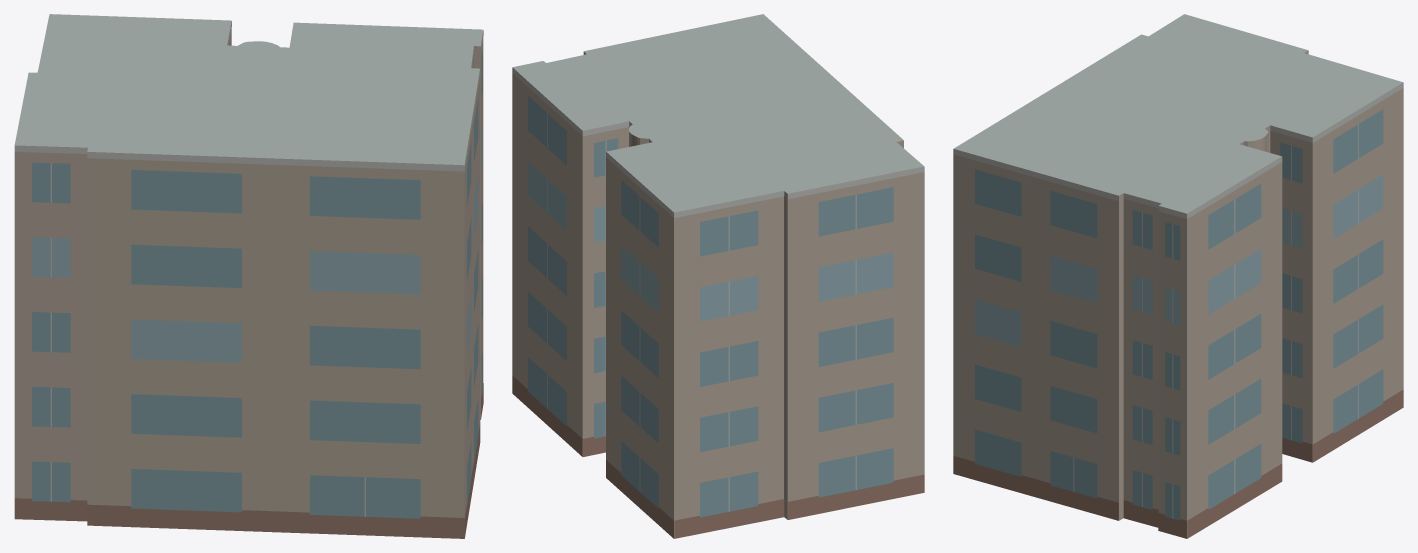
The model's file is survey-upis-32654998.glb.
The picture shows the model from 3 angles, left to right: view 1: azimuth 30°, elevation 25°; view 2: azimuth 150°, elevation 25°; view 3: azimuth 270°, elevation 25°; orthographic projection. The views are drawn at different scales.
Visible parts, largest first — view 1: survey-upis-32654998.tmp; view 2: survey-upis-32654998.tmp; view 3: survey-upis-32654998.tmp.
Boxes of the visible parts, left/top/right/bottom form: survey-upis-32654998.tmp: left=14, top=14, right=483, bottom=538; survey-upis-32654998.tmp: left=512, top=14, right=924, bottom=538; survey-upis-32654998.tmp: left=953, top=14, right=1403, bottom=538.
Size of the model in its own units: 18.97 by 14.39 by 18.07.
